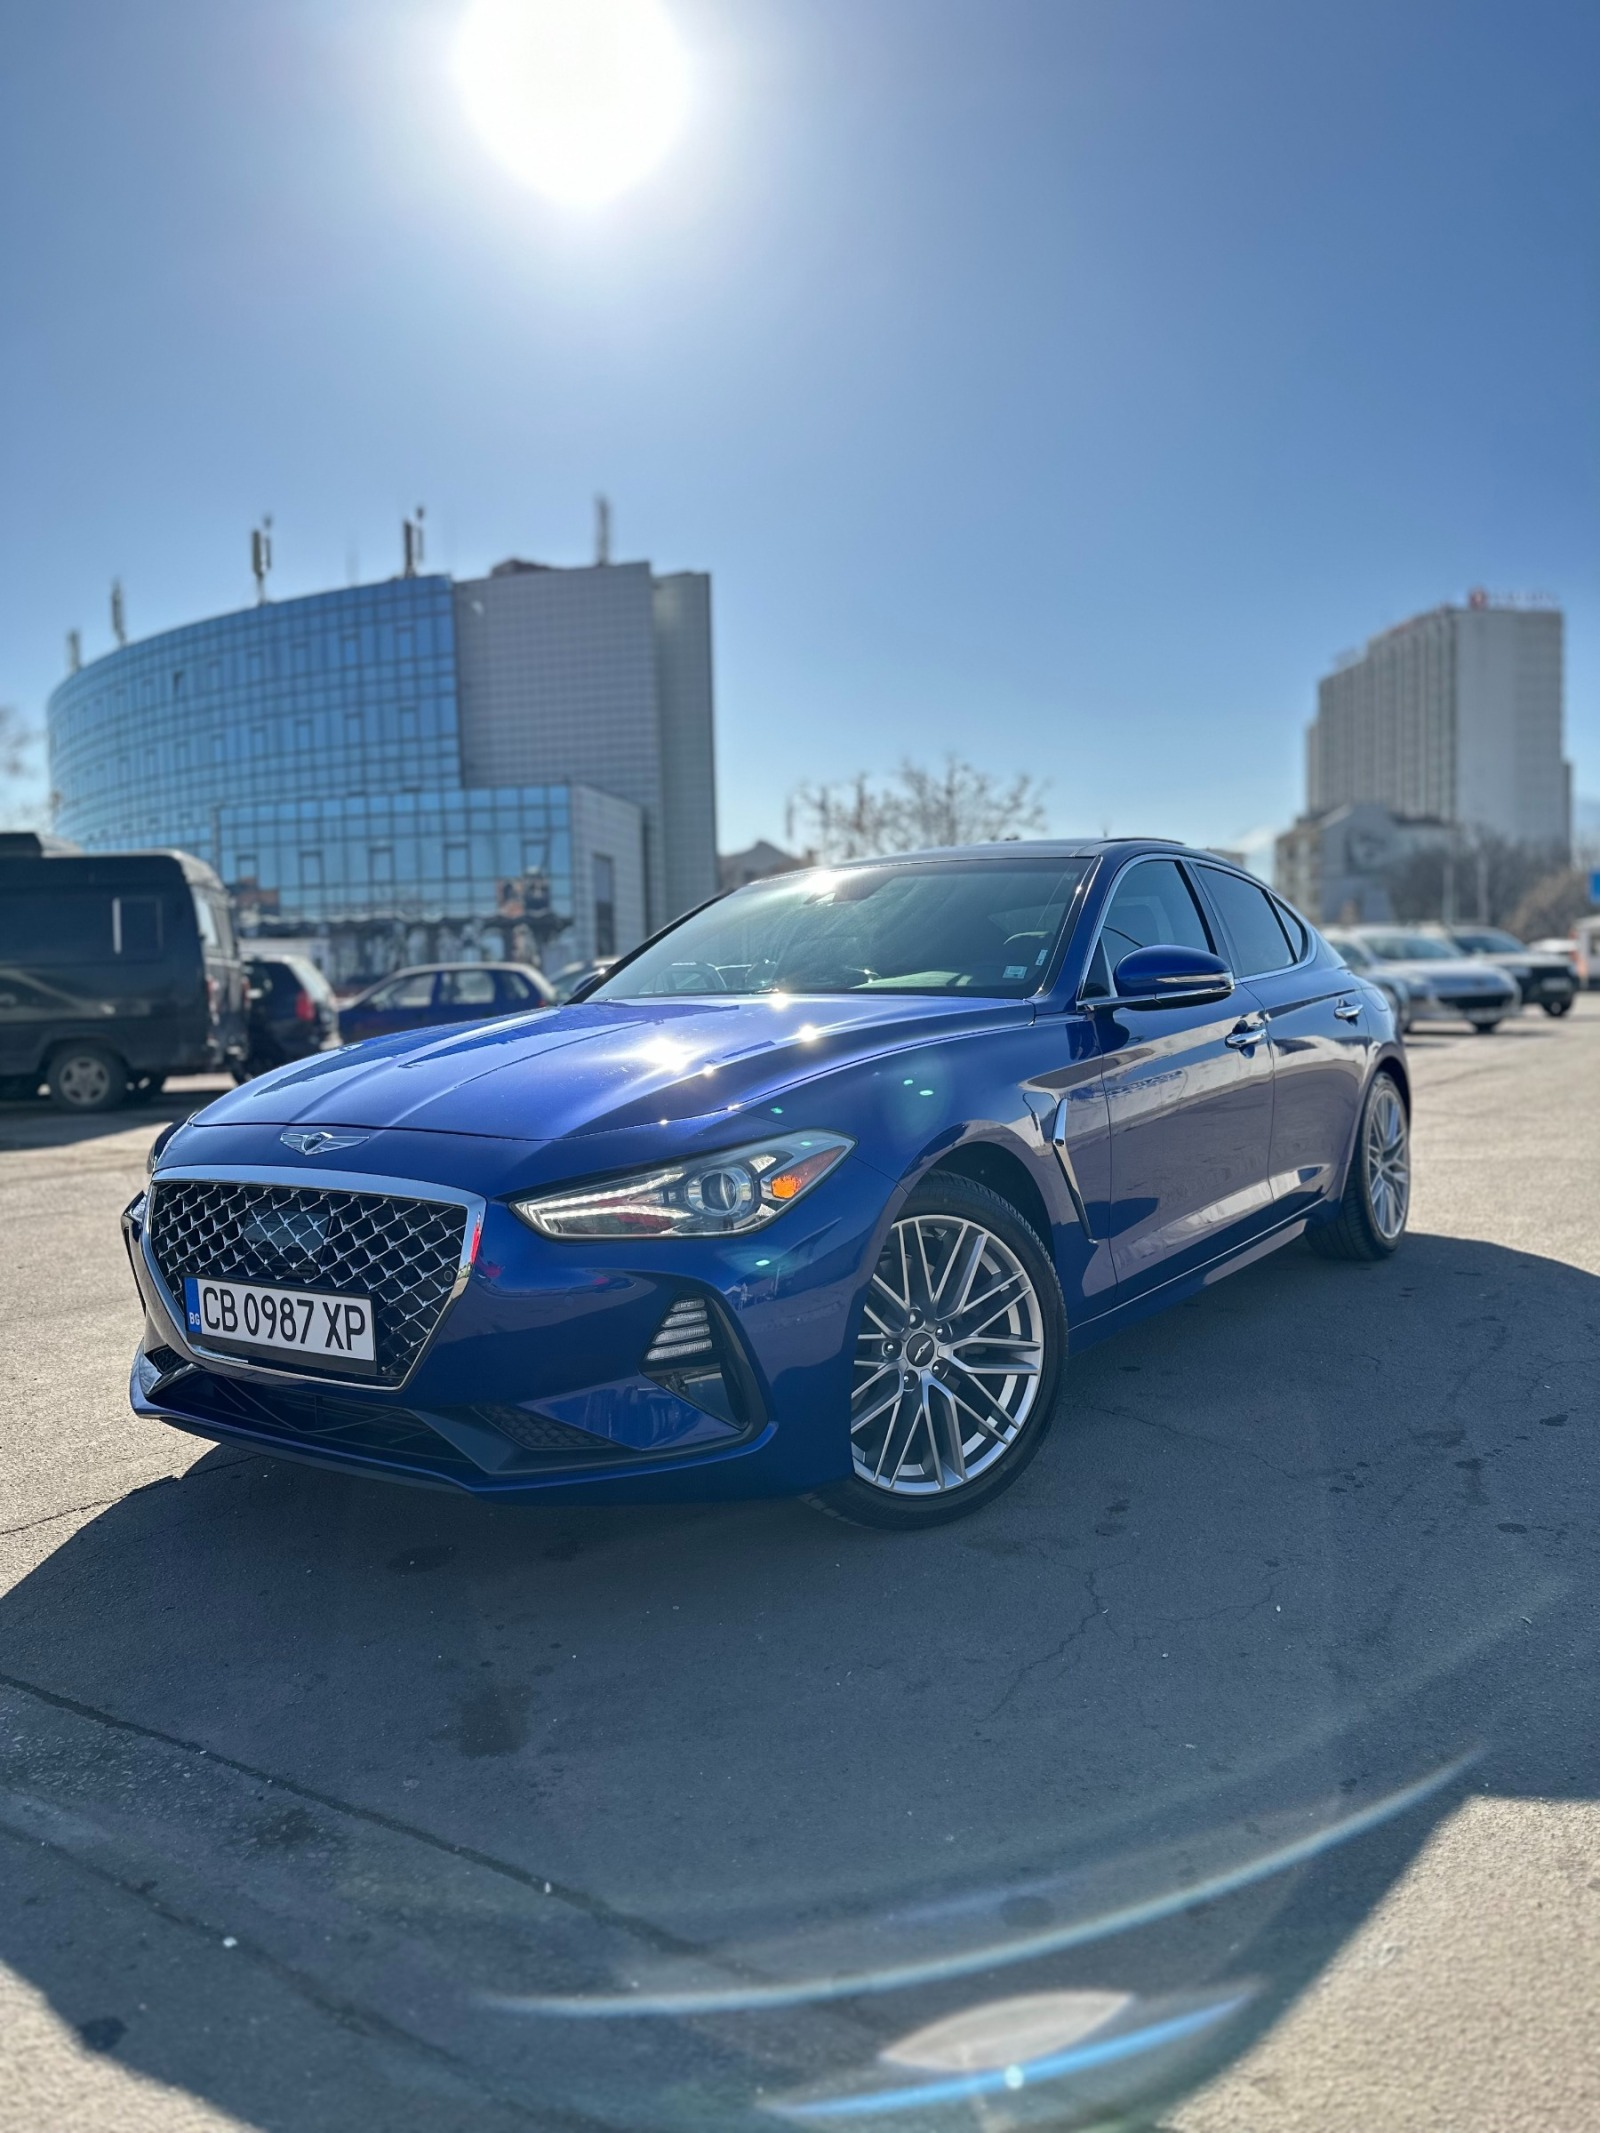registration_plate: (197, 1284, 383, 1363)
